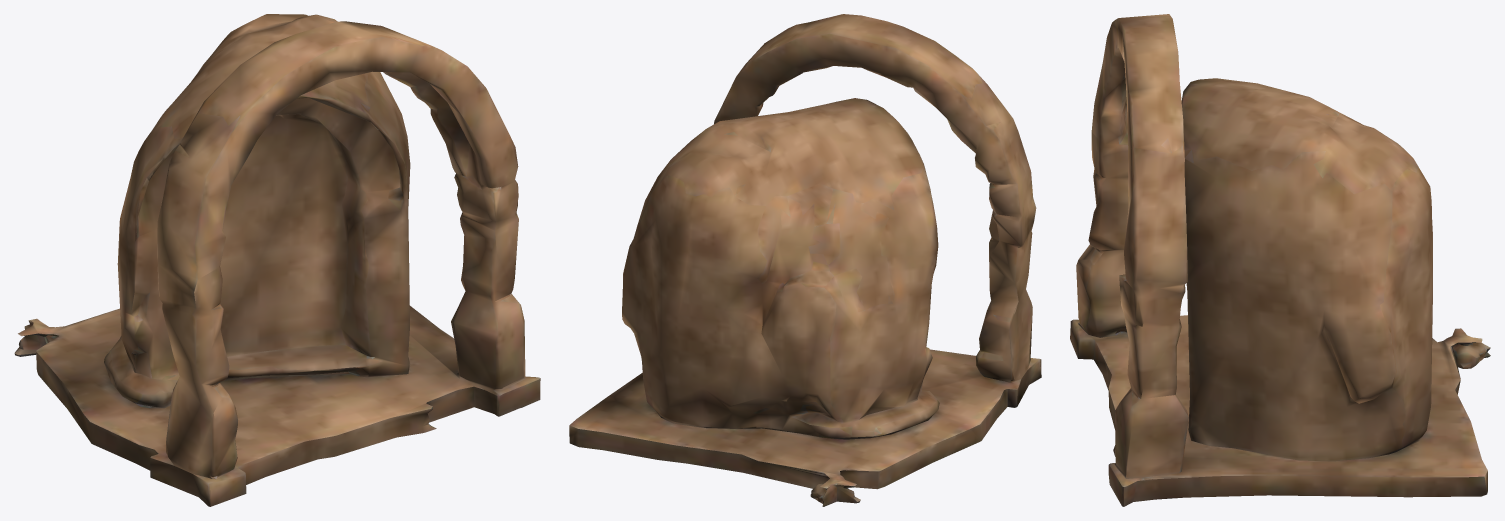
File: rustic-sandstone-street-arch-v001.glb
3 renders of one model, left to right at view 1: azimuth 30°, elevation 25°; view 2: azimuth 150°, elevation 25°; view 3: azimuth 270°, elevation 25°, orthographic. The views are drawn at different scales.
Visible parts, largest first — view 1: rustic-sandstone-street-arch; view 2: rustic-sandstone-street-arch; view 3: rustic-sandstone-street-arch.
Part boxes in pixels (x1=…): rustic-sandstone-street-arch: x1=14, y1=14, x2=540, y2=506; rustic-sandstone-street-arch: x1=569, y1=14, x2=1041, y2=506; rustic-sandstone-street-arch: x1=1070, y1=14, x2=1490, y2=506.
Bounding box in the file's own units: 3.85 × 3.87 × 3.86.
1 material, 1 textured.
